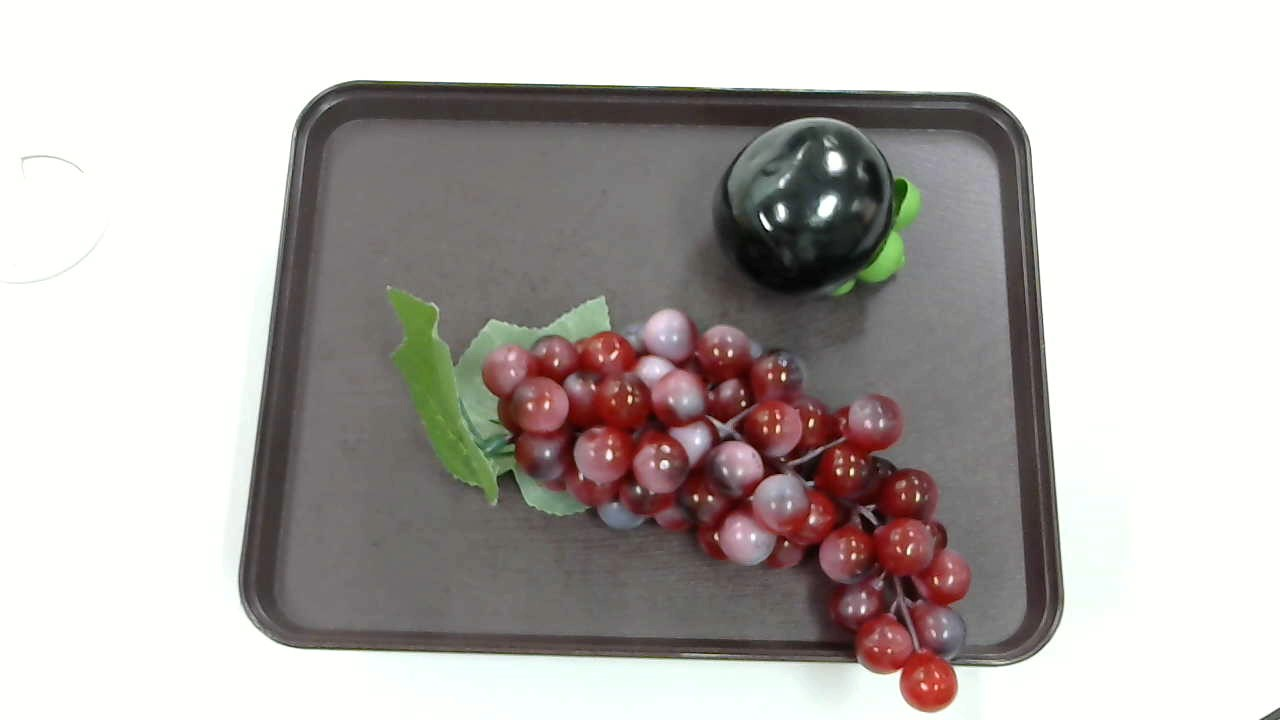grape: (374, 278, 974, 717)
mangosteen: (708, 112, 920, 313)
